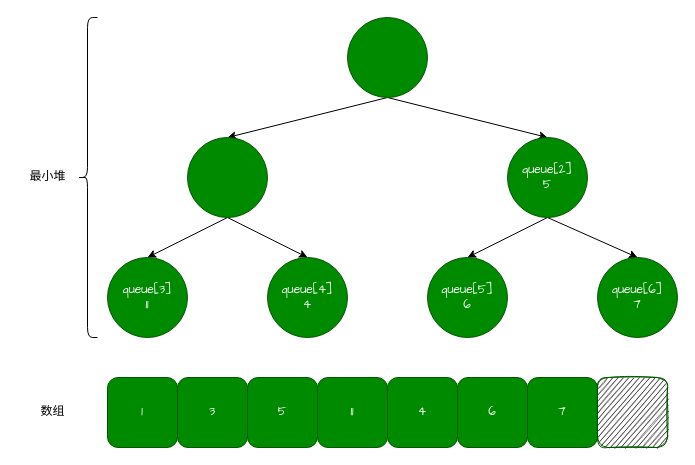
This 695x465 diagram has some shape labels left out. Here are the shapes that lost their labels. From the top down, the box of each, then its label:
(346, 16, 428, 98): queue[0] 1
(186, 136, 268, 218): queue[1] 3
